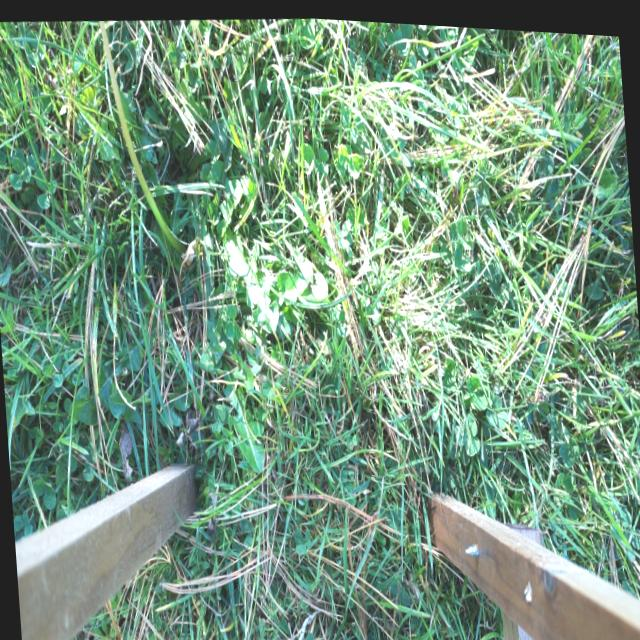base: (167, 224, 196, 273)
